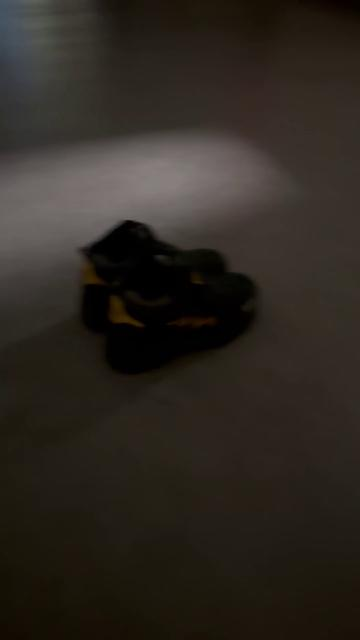shoe_worn: (74, 216, 236, 323), (104, 276, 261, 376)
